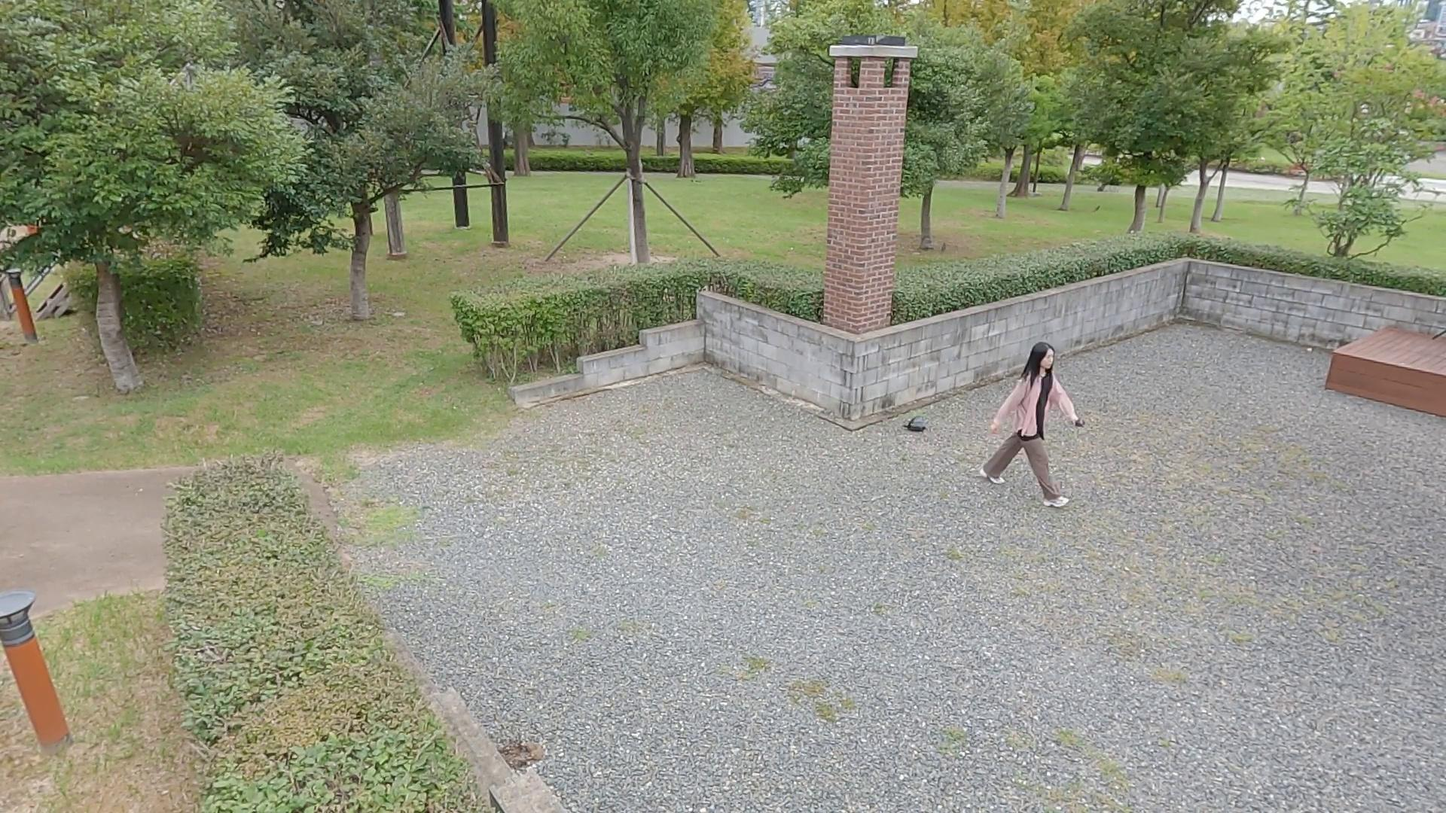person: (980, 343, 1089, 511)
trash: (901, 415, 927, 434)
